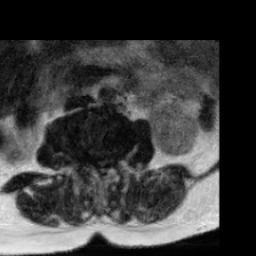CCS_severe_stenosis: (97, 154, 105, 177)
LFS_severe_stenosis: (112, 146, 120, 169)
LLS_severe_stenosis: (105, 153, 112, 172)
RFS_severe_stenosis: (82, 146, 90, 168)
RLS_severe_stenosis: (90, 151, 97, 172)
